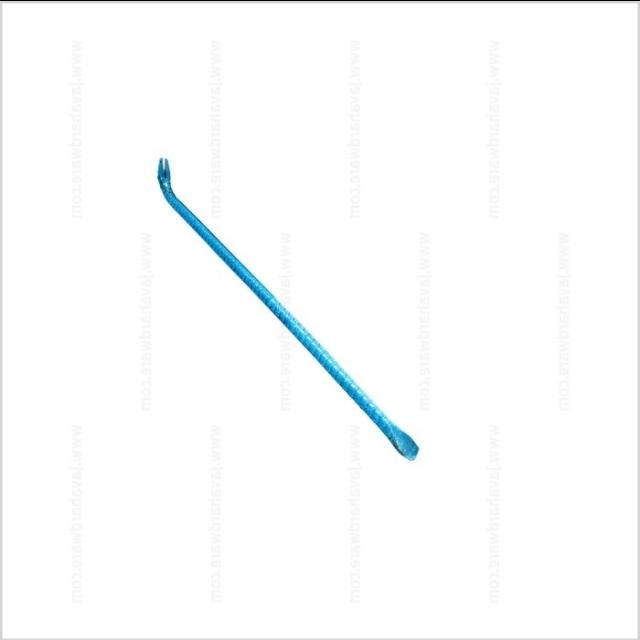Linggis: (154, 158, 419, 460)
